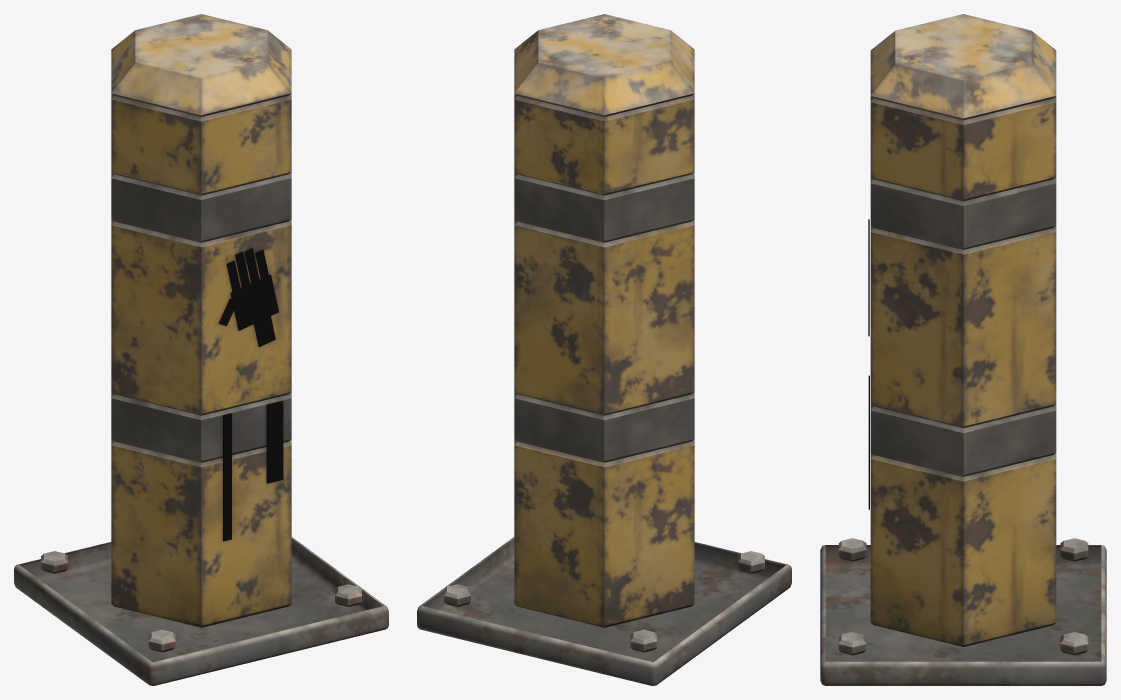
File: bollard.fbx
The picture shows the model from 3 angles, left to right: view 1: azimuth 30°, elevation 25°; view 2: azimuth 150°, elevation 25°; view 3: azimuth 270°, elevation 25°; orthographic projection. The views are drawn at different scales.
Parts seen in each view (by area): view 1: Body; view 2: Body; view 3: Body.
Part boxes in pixels (x1,y1,x2,y2): Body: (14, 14, 388, 685); Body: (417, 14, 791, 685); Body: (820, 14, 1106, 685).
Size of the model in its own units: 1.6 by 3.58 by 1.6.
Materials: 1 (1 with a texture image).
